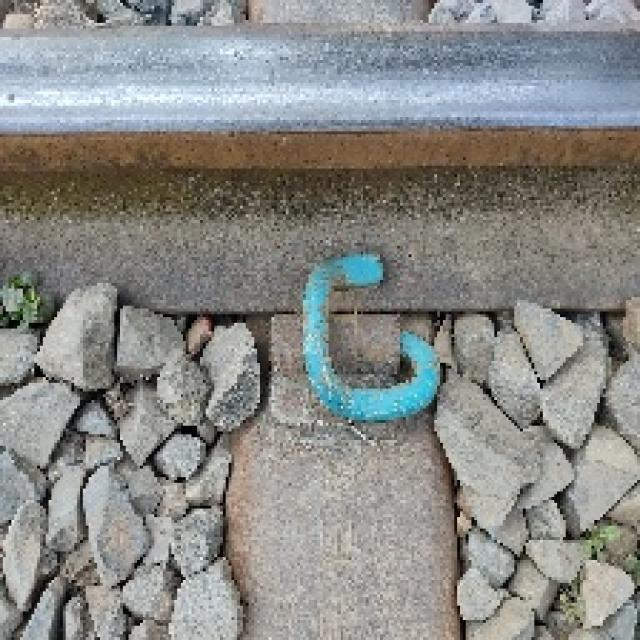Good Fasteners: (269, 254, 437, 440)
